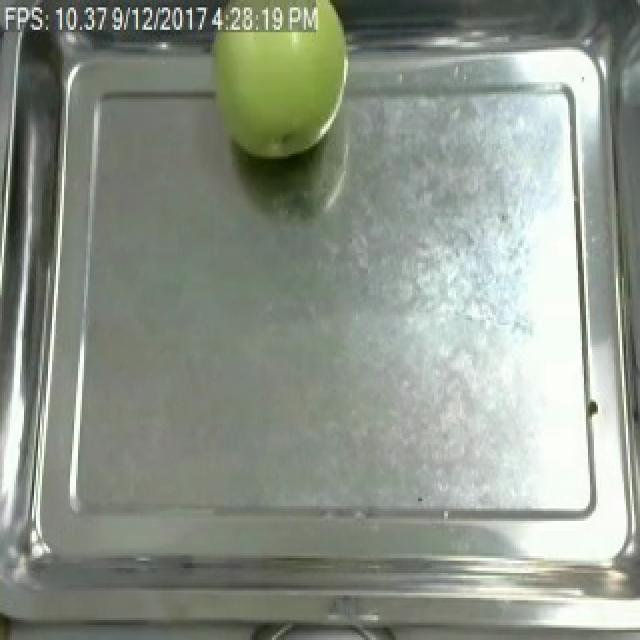50-_ripeness: (202, 0, 355, 165)
